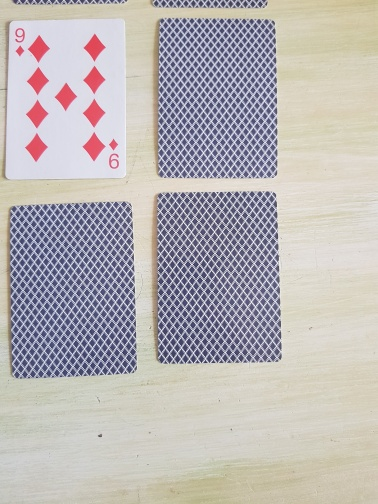nine: (3, 17, 128, 181)
